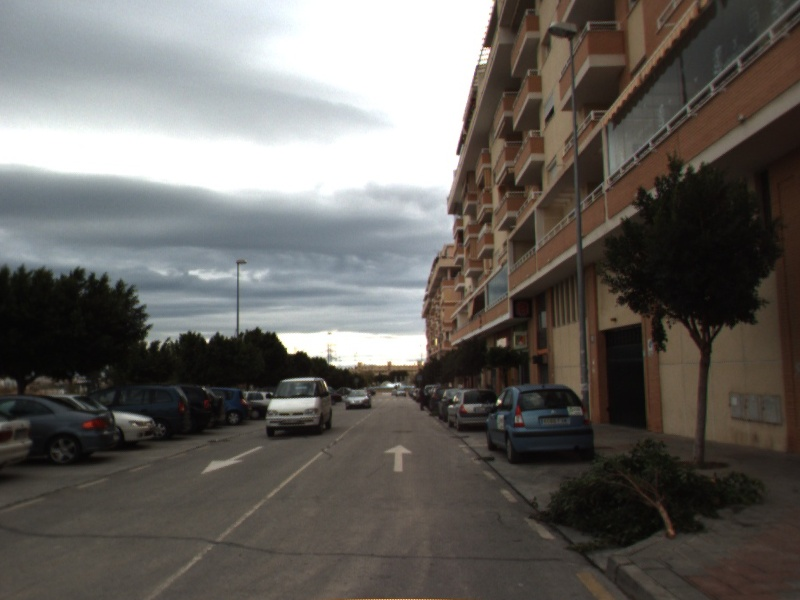STRAIGHT: (382, 442, 414, 473)
